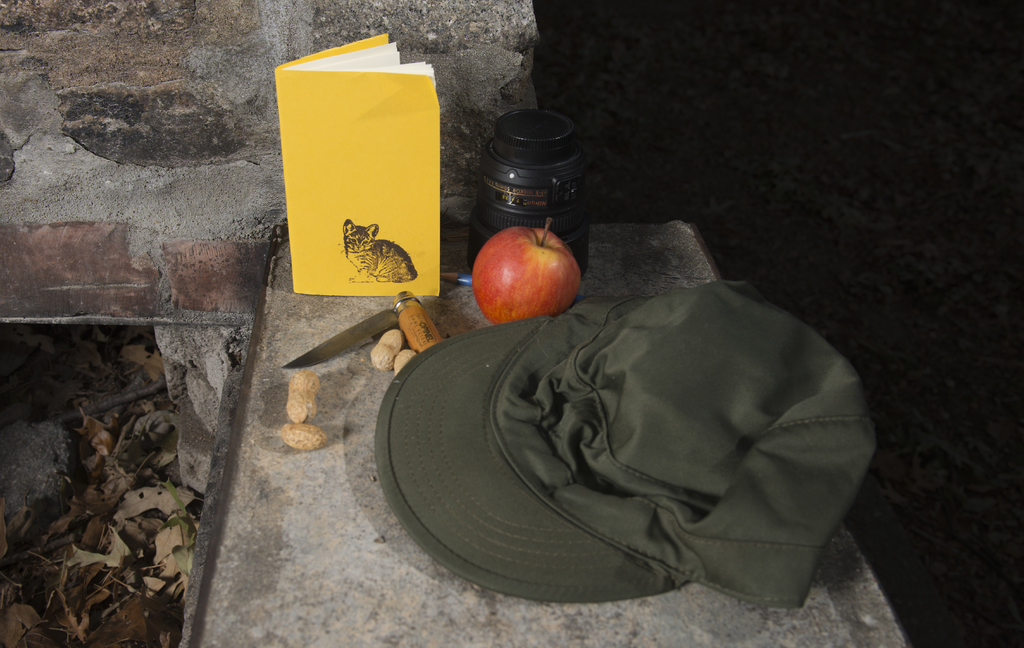Apple: (469, 222, 579, 321)
